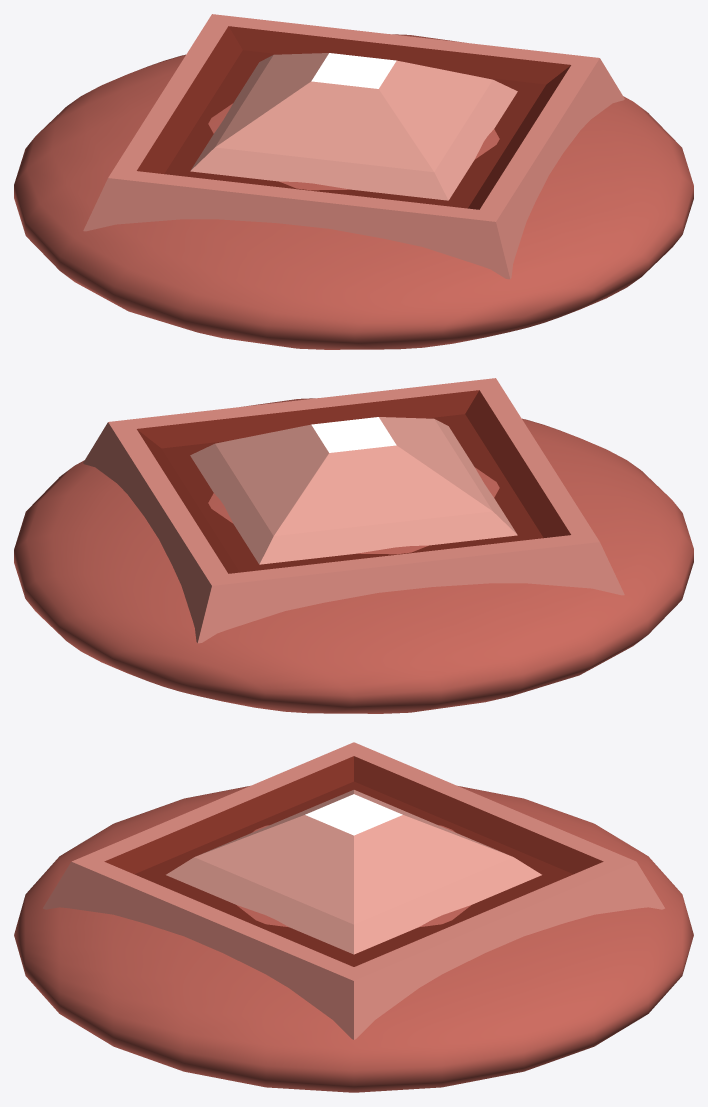
Rendered from newshv-123.glb.
3 views of the same model, one above another, from view 1: azimuth 30°, elevation 25°; view 2: azimuth 150°, elevation 25°; view 3: azimuth 270°, elevation 25° (orthographic).
Visible parts, largest first — view 1: newshv-123, newshv-123_diamond; view 2: newshv-123, newshv-123_diamond; view 3: newshv-123_diamond, newshv-123.
Boxes of the visible parts, x1,y1,x2,y2 form: newshv-123: (14,34,693,349); newshv-123_diamond: (83,14,624,279); newshv-123: (14,398,693,713); newshv-123_diamond: (83,378,624,643); newshv-123_diamond: (43,742,664,1039); newshv-123: (14,786,693,1092).
Size of the model in its own units: 1.37 by 0.4391 by 1.38.
